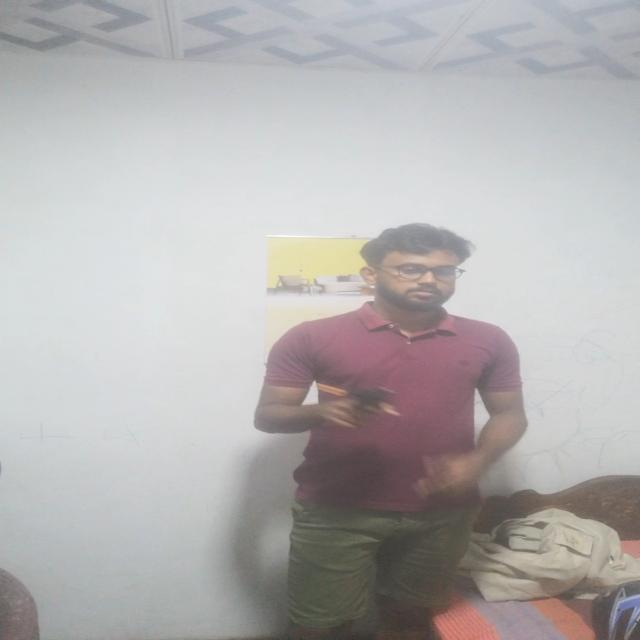Gun_Holder: (314, 384, 418, 426)
Person: (255, 219, 527, 640)
